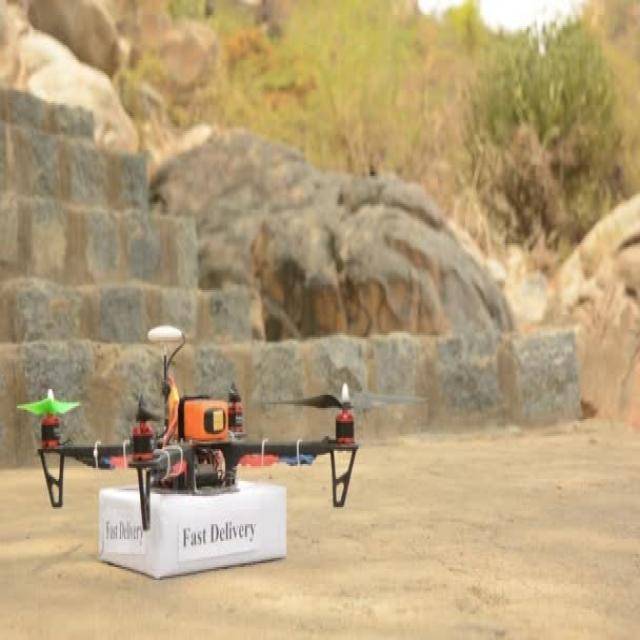drone: (15, 326, 429, 537)
